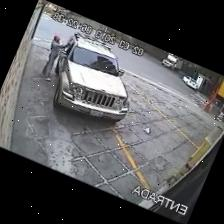person: (40, 35, 69, 81)
